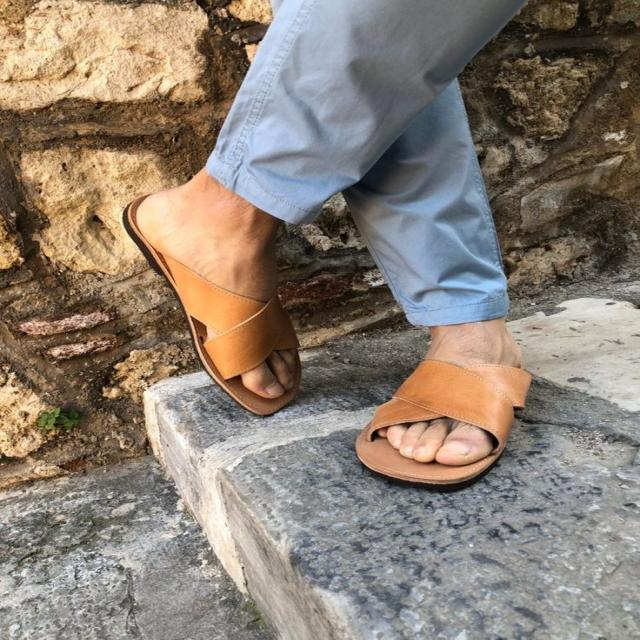Sandals: (119, 189, 330, 419), (353, 320, 534, 487)
